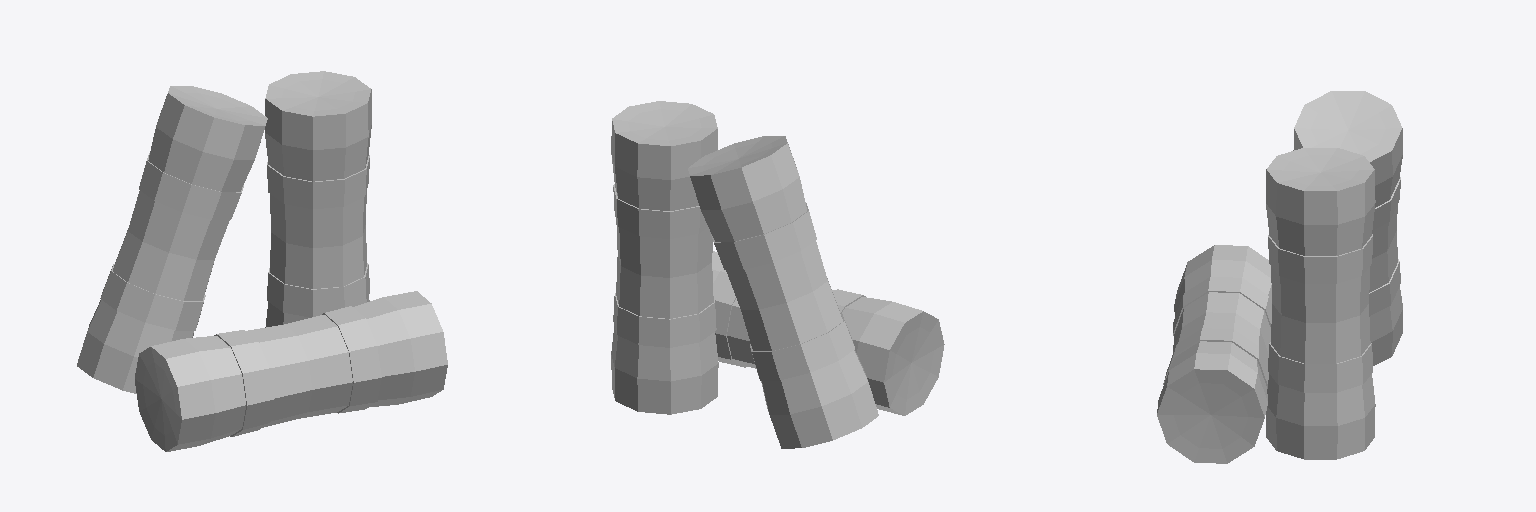
Rendered from rolled_towel.obj.
3 renders of one model, left to right at view 1: azimuth 30°, elevation 25°; view 2: azimuth 150°, elevation 25°; view 3: azimuth 270°, elevation 25°, orthographic.
Parts seen in each view (by area): view 1: rolled_towel; view 2: rolled_towel; view 3: rolled_towel.
Boxes of the visible parts, x1,y1,x2,y2 form: rolled_towel: [77, 71, 447, 451]; rolled_towel: [611, 101, 944, 448]; rolled_towel: [1157, 91, 1402, 463].
Bounding box in the file's own units: 1.11 × 1.11 × 0.8641.